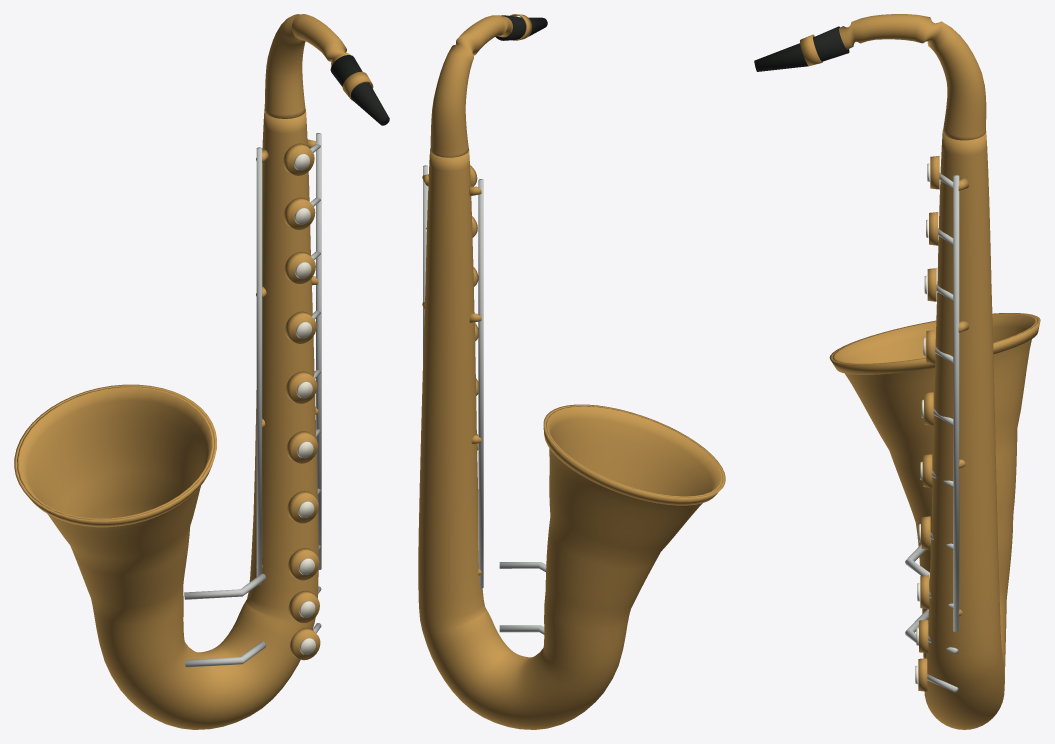
Rendered from saxophone.glb.
The picture shows the model from 3 angles, left to right: view 1: azimuth 30°, elevation 25°; view 2: azimuth 150°, elevation 25°; view 3: azimuth 270°, elevation 25°; orthographic projection. The views are drawn at different scales.
Parts seen in each view (by area): view 1: Saxophone_Body, Sax_Key_01, Sax_Key_03, Sax_Key_02, Sax_Key_04, Sax_Key_05, Sax_Key_06, Sax_Key_10, Sax_Key_07, Sax_Key_09, Sax_Key_08; view 2: Saxophone_Body; view 3: Saxophone_Body, Sax_Key_10, Sax_Key_03, Sax_Key_04, Sax_Key_02, Sax_Key_05, Sax_Key_01, Sax_Key_09.
Boxes of the visible parts, x1=… form: Saxophone_Body: x1=14, y1=14, x2=389, y2=729; Sax_Key_01: x1=283, y1=143, x2=320, y2=175; Sax_Key_03: x1=284, y1=251, x2=320, y2=283; Sax_Key_02: x1=283, y1=197, x2=320, y2=229; Sax_Key_04: x1=285, y1=310, x2=320, y2=343; Sax_Key_05: x1=285, y1=370, x2=320, y2=403; Sax_Key_06: x1=286, y1=429, x2=320, y2=463; Sax_Key_10: x1=290, y1=623, x2=321, y2=660; Sax_Key_07: x1=287, y1=488, x2=321, y2=523; Sax_Key_09: x1=288, y1=586, x2=321, y2=622; Sax_Key_08: x1=288, y1=545, x2=320, y2=580; Saxophone_Body: x1=418, y1=14, x2=725, y2=729; Saxophone_Body: x1=754, y1=14, x2=1040, y2=729; Sax_Key_10: x1=915, y1=658, x2=958, y2=692; Sax_Key_03: x1=924, y1=268, x2=953, y2=301; Sax_Key_04: x1=923, y1=330, x2=953, y2=363; Sax_Key_02: x1=926, y1=212, x2=953, y2=245; Sax_Key_05: x1=921, y1=392, x2=953, y2=425; Sax_Key_01: x1=927, y1=156, x2=953, y2=189; Sax_Key_09: x1=916, y1=619, x2=958, y2=654.
Size of the model in its own units: 1.78 by 4 by 1.4.
